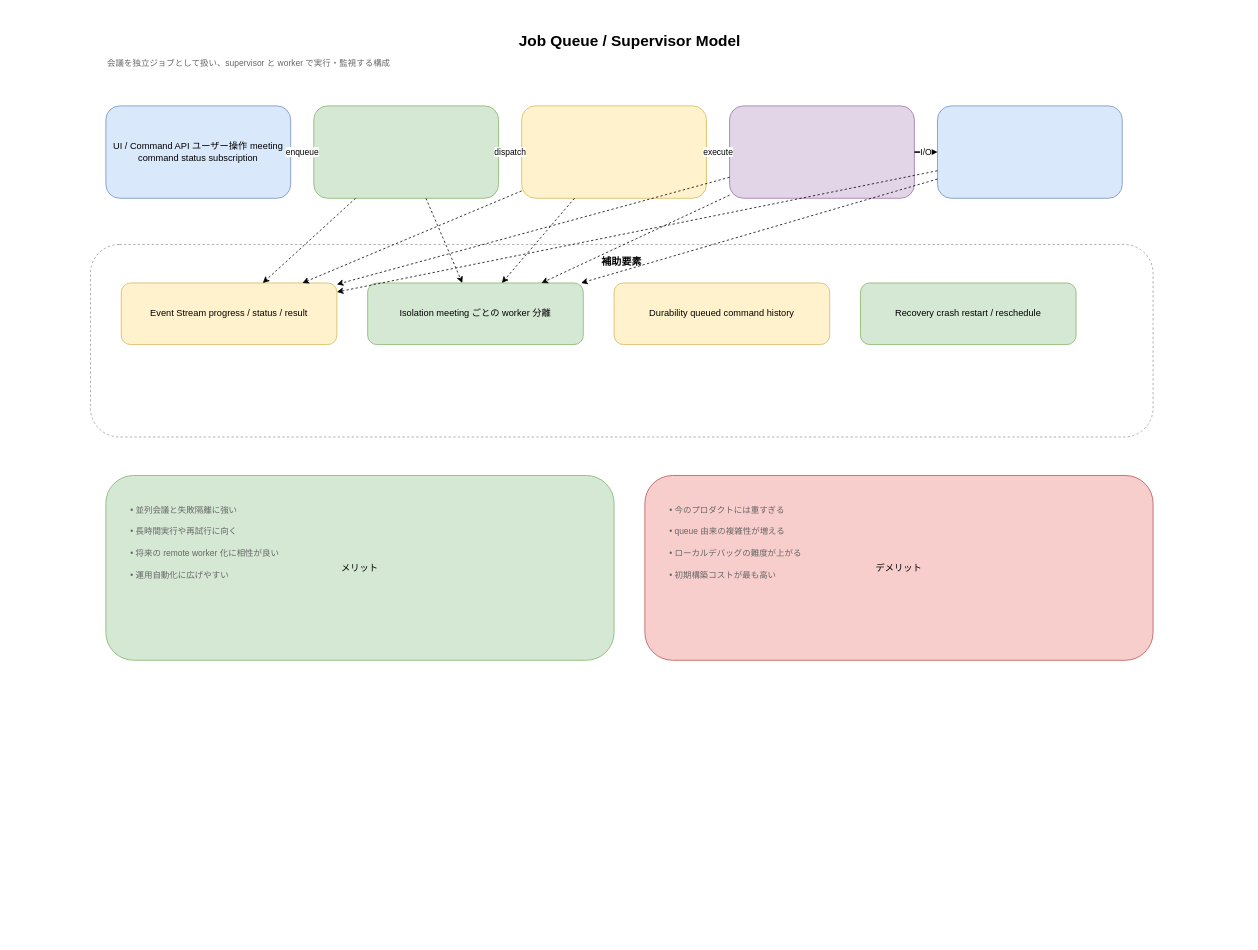
Some shapes in this 1258 by 950 pixel diagram are drawn without their labels. Here are the shapes that lost their labels. From the top down, the centre of each, then its label:
the point at 406,151: Supervisor worker lifecycle retry health / failure policy
the point at 613,151: Command Queue meeting command retry queue backpressure
the point at 821,151: Meeting Workers one worker per meeting Claude control summary generation
the point at 1029,151: Runtime / Storage Claude Code logs artifact store
